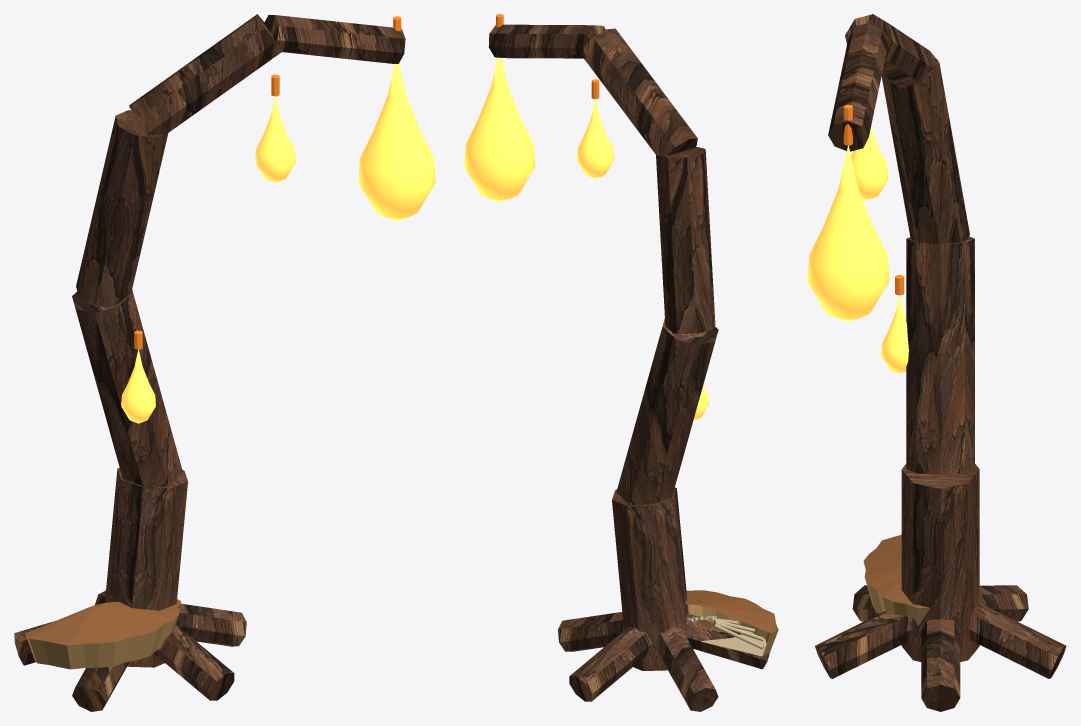
3 views of the same model, side by side, from view 1: azimuth 30°, elevation 25°; view 2: azimuth 150°, elevation 25°; view 3: azimuth 270°, elevation 25° (orthographic). The views are drawn at different scales.
Visible parts, largest first — view 1: amber-resin-sconce · evaluated preview mesh; view 2: amber-resin-sconce · evaluated preview mesh; view 3: amber-resin-sconce · evaluated preview mesh.
Boxes of the visible parts, x1,y1,x2,y2 form: amber-resin-sconce · evaluated preview mesh: (14, 14, 435, 711); amber-resin-sconce · evaluated preview mesh: (464, 14, 778, 711); amber-resin-sconce · evaluated preview mesh: (807, 14, 1066, 711).
Size of the model in its own units: 4.41 by 7.48 by 2.53.
6 materials, 1 textured.
